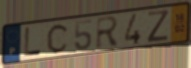4: (123, 12, 142, 46)
5: (74, 18, 94, 52)
C: (46, 23, 71, 55)
L: (24, 26, 43, 58)
R: (95, 15, 121, 51)
Z: (146, 9, 171, 44)
